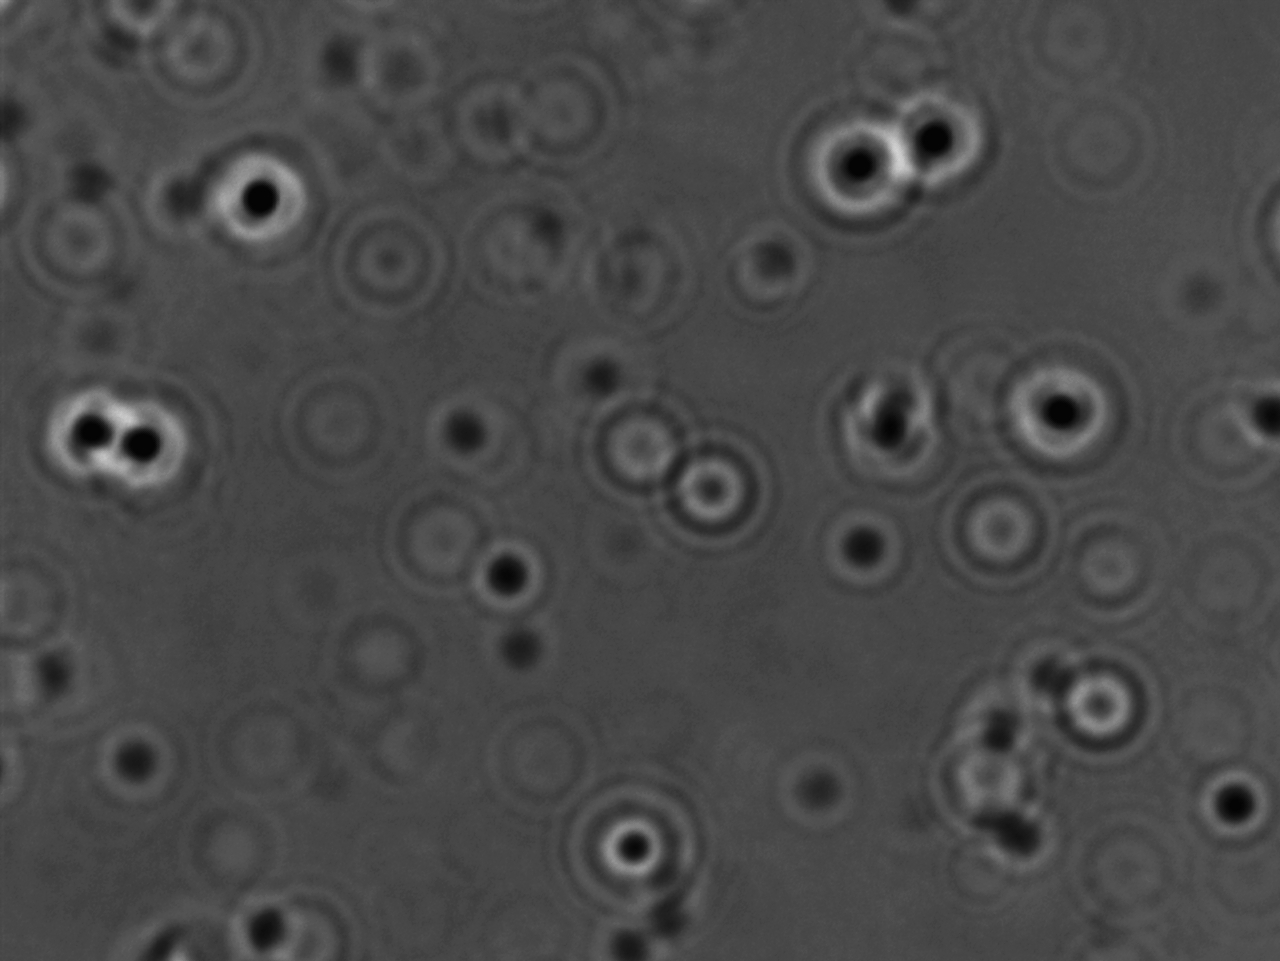depth:-24: (991, 356, 1136, 489), (779, 96, 920, 227), (871, 68, 999, 205), (99, 382, 229, 503), (197, 137, 317, 263), (41, 376, 170, 489)
